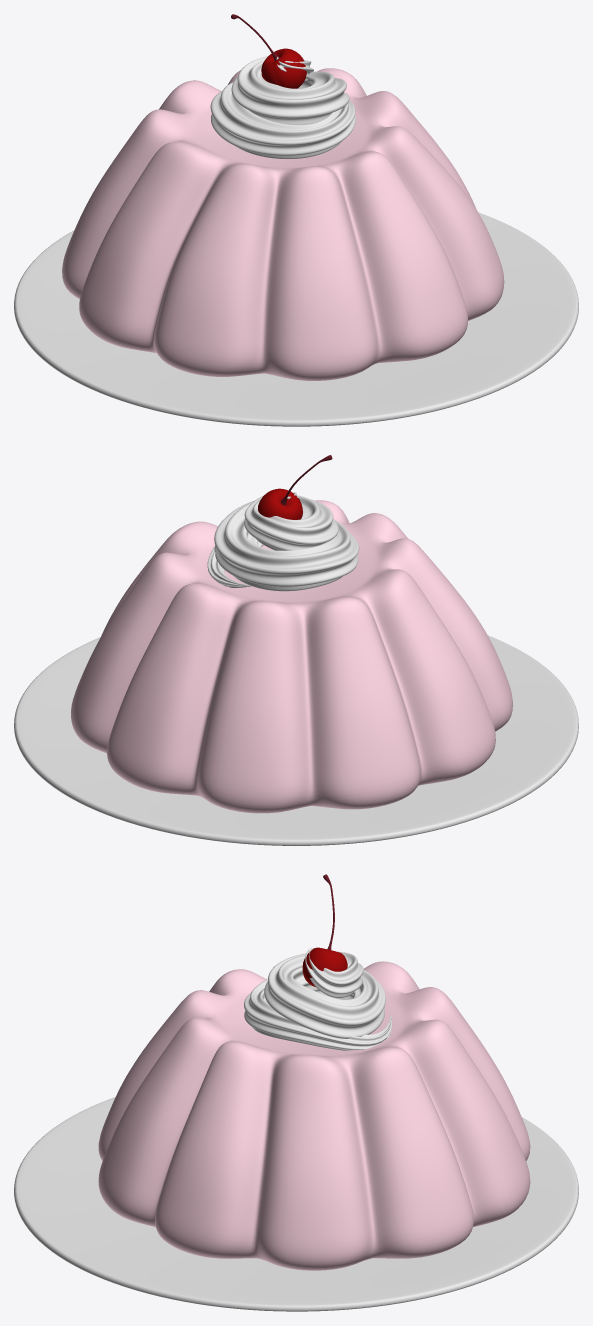
File: Guodong.fbx
3 views of the same model, one above another, from view 1: azimuth 30°, elevation 25°; view 2: azimuth 150°, elevation 25°; view 3: azimuth 270°, elevation 25° (orthographic).
Parts seen in each view (by area): view 1: 柱体.002, LMC4D.CN.006, NURBS 路径, LMC4D.CN.004; view 2: 柱体.002, LMC4D.CN.006, NURBS 路径, LMC4D.CN.004; view 3: 柱体.002, LMC4D.CN.006, NURBS 路径, LMC4D.CN.004.
Part boxes in pixels (x1,y1,x2,y2): 柱体.002: [62, 68, 504, 380]; LMC4D.CN.006: [14, 212, 578, 426]; NURBS 路径: [210, 56, 355, 159]; LMC4D.CN.004: [261, 48, 306, 88]; 柱体.002: [71, 500, 512, 813]; LMC4D.CN.006: [14, 635, 578, 845]; NURBS 路径: [207, 491, 359, 591]; LMC4D.CN.004: [258, 488, 302, 519]; 柱体.002: [98, 961, 530, 1270]; LMC4D.CN.006: [14, 1097, 578, 1311]; NURBS 路径: [244, 948, 392, 1050]; LMC4D.CN.004: [302, 947, 347, 986].
Bounding box in the file's own units: 517 × 316 × 517.
